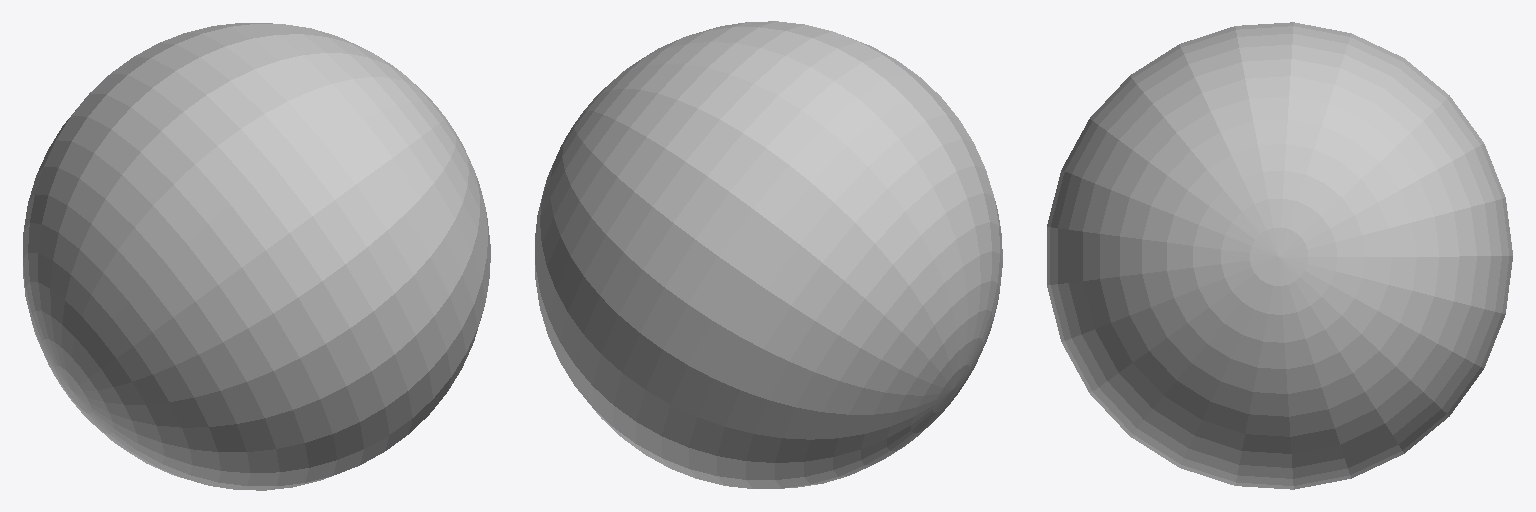
Rendered from CubeWITHAnim0008.obj.
3 renders of one model, left to right at view 1: azimuth 30°, elevation 25°; view 2: azimuth 150°, elevation 25°; view 3: azimuth 270°, elevation 25°, orthographic.
Visible parts, largest first — view 1: NEWJumpBall_Sphere; view 2: NEWJumpBall_Sphere; view 3: NEWJumpBall_Sphere.
Boxes of the visible parts, <box> form: NEWJumpBall_Sphere: <box>23,23,490,490</box>; NEWJumpBall_Sphere: <box>535,21,1002,488</box>; NEWJumpBall_Sphere: <box>1047,22,1512,489</box>.
Size of the model in its own units: 2 by 2 by 1.99.